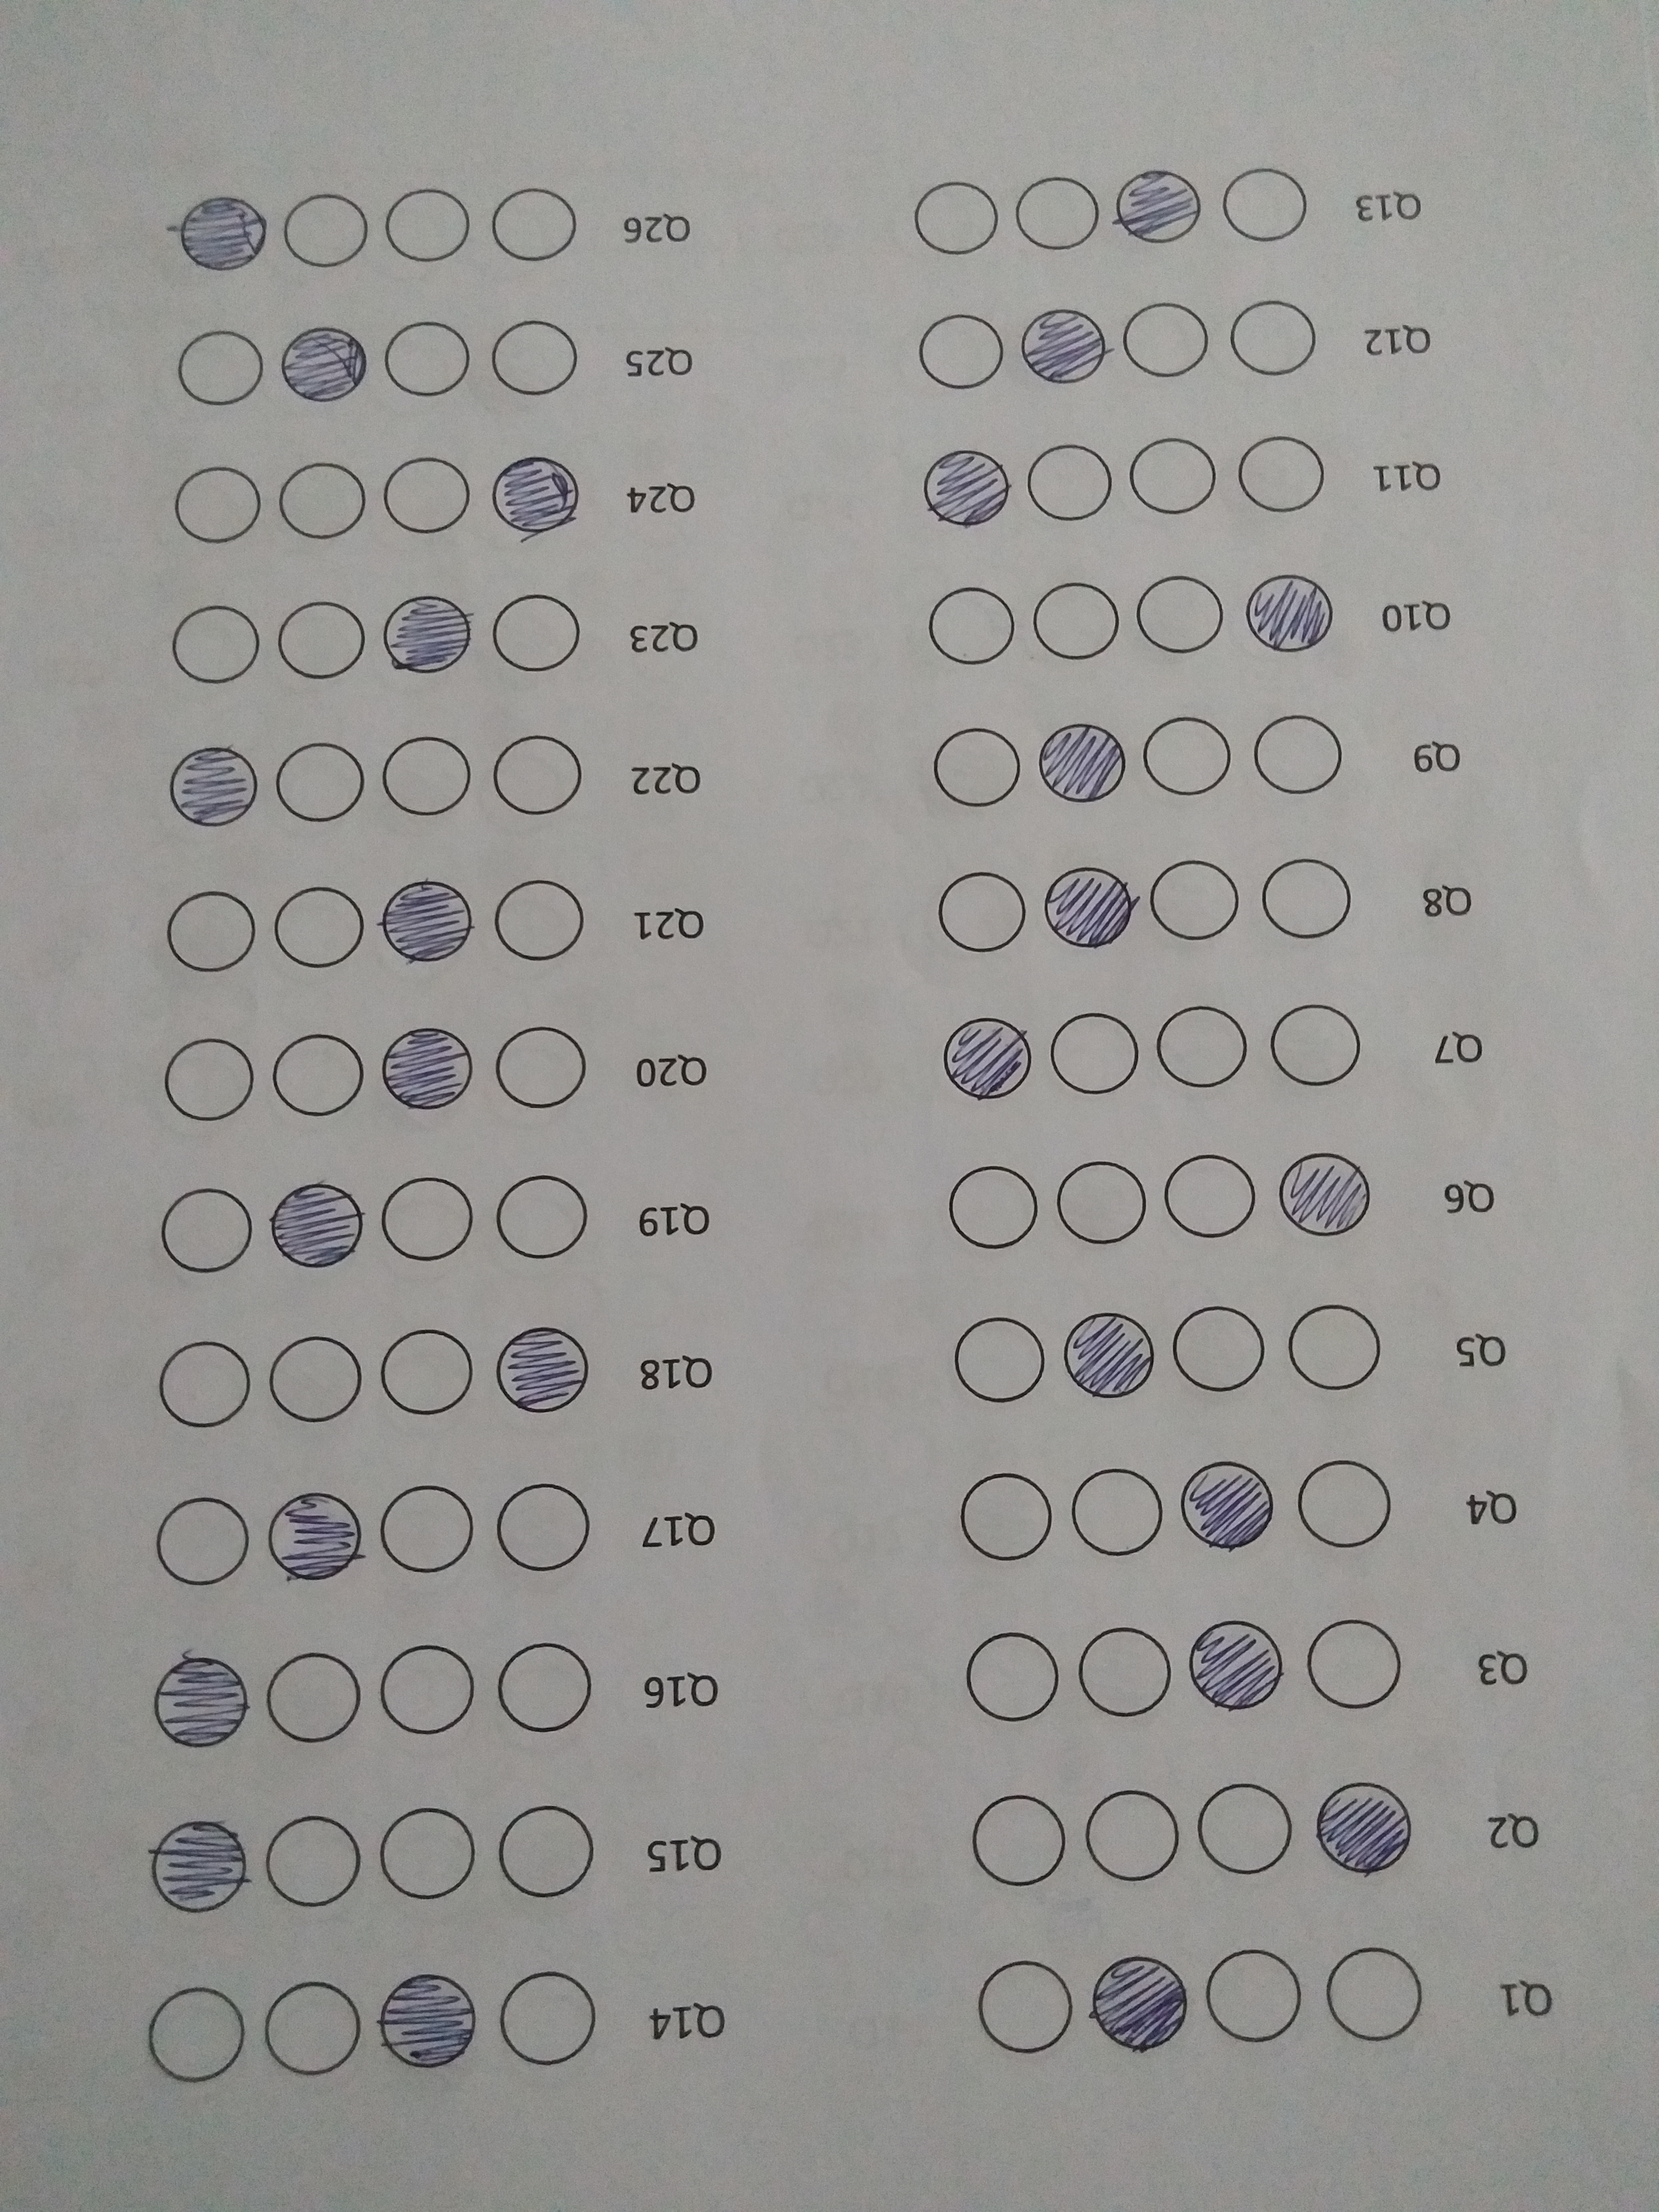not-c: (1161, 1148, 1262, 1249), (1305, 1615, 1406, 1716), (1195, 1778, 1297, 1879), (1202, 1947, 1303, 2047), (951, 1312, 1053, 1411), (1070, 1458, 1169, 1559), (962, 1627, 1063, 1726), (1075, 1620, 1175, 1721), (965, 1792, 1066, 1892), (1324, 1944, 1425, 2043), (1051, 1157, 1150, 1256), (1288, 1296, 1387, 1395), (1169, 1301, 1269, 1400), (1295, 1460, 1394, 1559), (957, 1467, 1056, 1566), (1084, 1785, 1183, 1885), (945, 1160, 1042, 1256), (148, 1987, 247, 2080), (929, 723, 1028, 815), (1152, 1000, 1251, 1092), (1046, 1005, 1143, 1097), (500, 1972, 596, 2064), (934, 869, 1030, 961), (1251, 709, 1349, 799), (1267, 1000, 1364, 1090), (1230, 427, 1328, 517), (1145, 855, 1244, 944), (978, 1963, 1072, 2055), (1260, 852, 1354, 944), (1124, 434, 1220, 524), (1021, 435, 1117, 526), (1133, 570, 1229, 660), (924, 578, 1019, 669), (263, 1984, 361, 2073), (1138, 711, 1236, 799), (1028, 578, 1126, 667), (267, 1817, 361, 1905), (913, 308, 1009, 395), (380, 1646, 474, 1733), (380, 1484, 474, 1571), (1216, 165, 1312, 251), (498, 1482, 591, 1569), (157, 1496, 249, 1583), (382, 1329, 474, 1416), (495, 1174, 587, 1261), (498, 1808, 592, 1893), (380, 1811, 474, 1897), (157, 1341, 251, 1426), (1117, 298, 1215, 380), (500, 1642, 592, 1728), (265, 1655, 357, 1740), (268, 1336, 361, 1421), (908, 174, 1000, 258), (1227, 294, 1319, 378), (1012, 172, 1100, 260), (281, 188, 373, 270), (380, 1179, 472, 1261), (493, 1026, 586, 1108), (274, 1033, 366, 1115), (162, 1036, 254, 1118), (274, 740, 366, 822), (274, 599, 366, 681), (169, 604, 261, 686), (380, 456, 472, 538), (275, 460, 368, 542), (171, 462, 263, 543), (380, 319, 472, 401), (380, 185, 472, 266), (493, 878, 584, 960), (167, 890, 258, 972), (491, 592, 582, 674), (490, 315, 580, 397), (174, 326, 265, 408), (160, 1190, 253, 1270), (488, 183, 580, 263), (274, 885, 364, 965), (493, 735, 584, 815), (382, 737, 472, 817)
taken-c: (1084, 1951, 1190, 2052), (146, 1817, 249, 1918), (380, 1972, 483, 2069), (1178, 1454, 1277, 1552), (153, 1653, 251, 1750), (1319, 1778, 1415, 1874), (1187, 1618, 1284, 1710), (267, 1489, 362, 1581), (493, 1324, 591, 1413), (378, 1024, 477, 1111), (267, 1181, 362, 1270), (1060, 1308, 1155, 1397), (1276, 1151, 1373, 1237), (938, 1017, 1035, 1103), (382, 876, 476, 963), (1040, 866, 1134, 953), (488, 451, 584, 536), (176, 190, 268, 275), (169, 744, 260, 829), (1239, 575, 1335, 655), (1112, 164, 1204, 246), (1039, 721, 1127, 805), (382, 592, 474, 672), (925, 444, 1012, 528), (1019, 305, 1110, 385), (282, 324, 371, 404)
